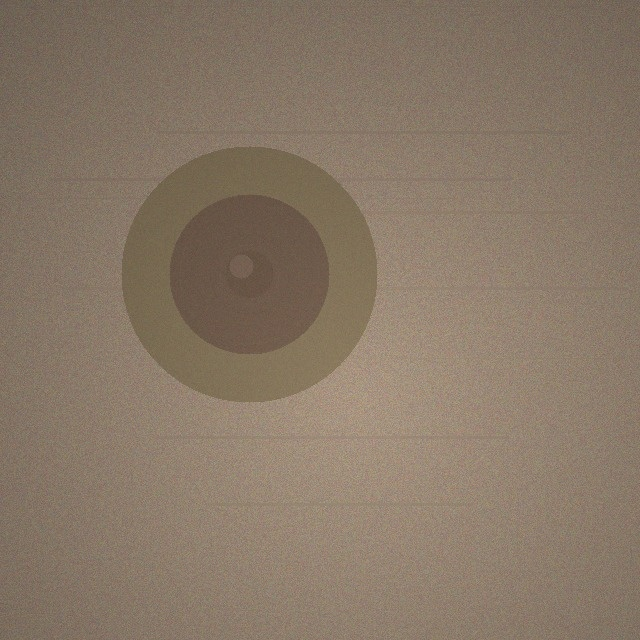good: (121, 146, 377, 402)
